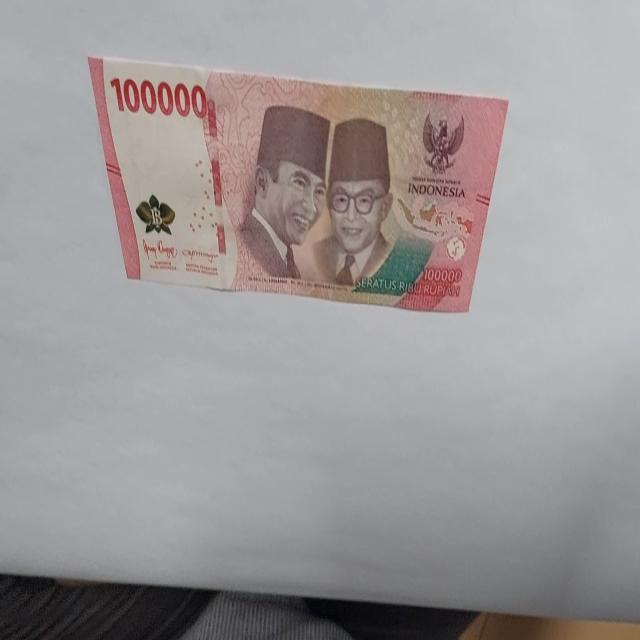seratus ribu rupiah: (87, 54, 510, 314), (232, 103, 331, 287)
